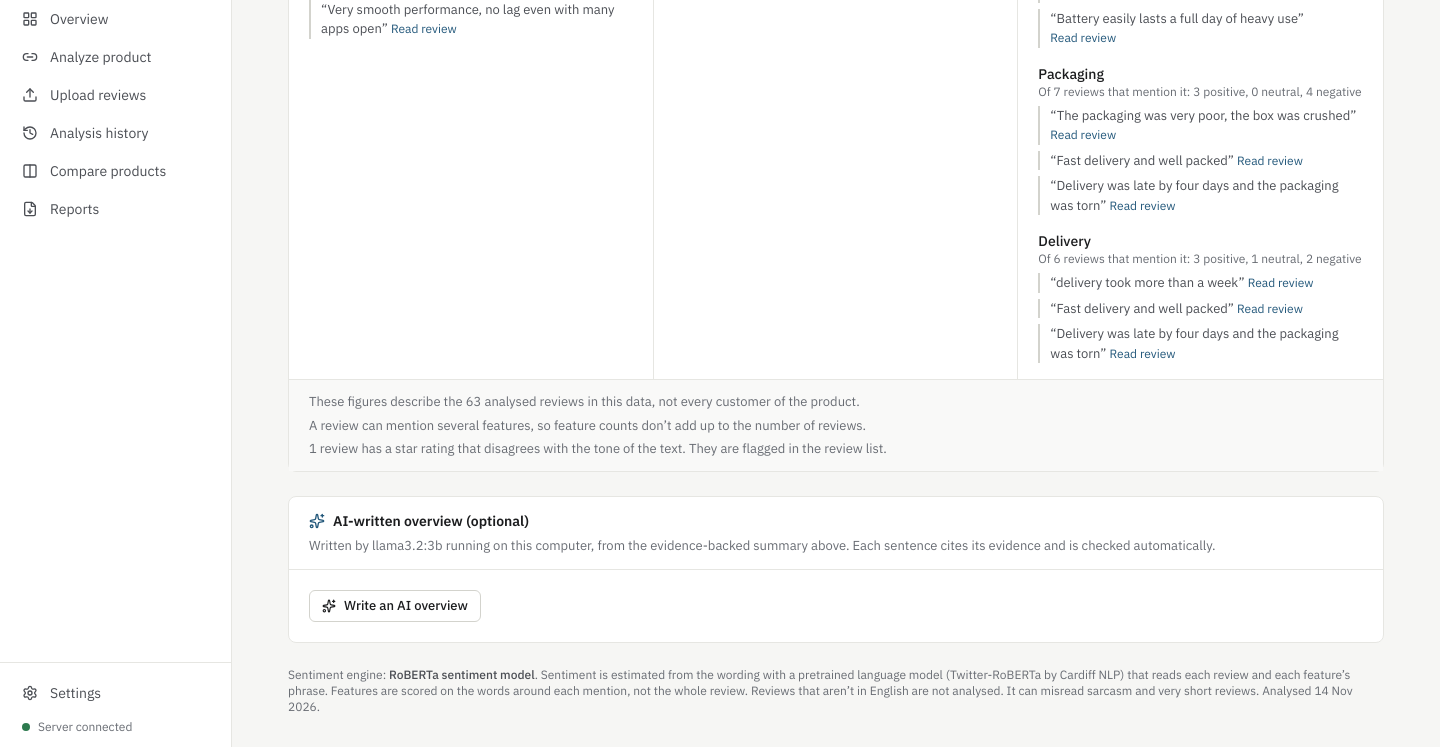
Test case: AI overview › shows the server’s reason when writing fails
(page scrolled)
Click the button "Write an AI overview" at (395, 606), box left=309, top=590, right=481, bottom=622
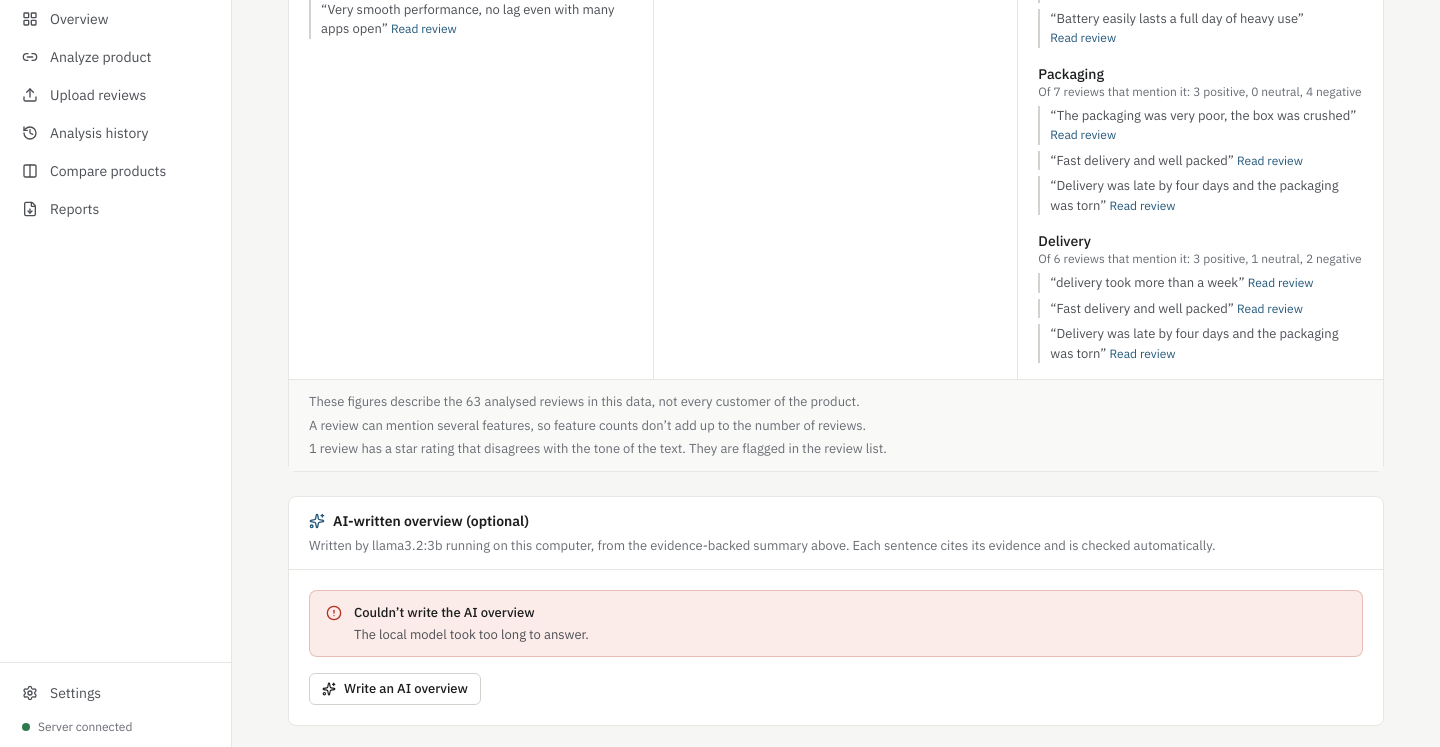
Expected: the text "The local model took too long to answer." is shown, left=354, top=626, right=589, bottom=642
